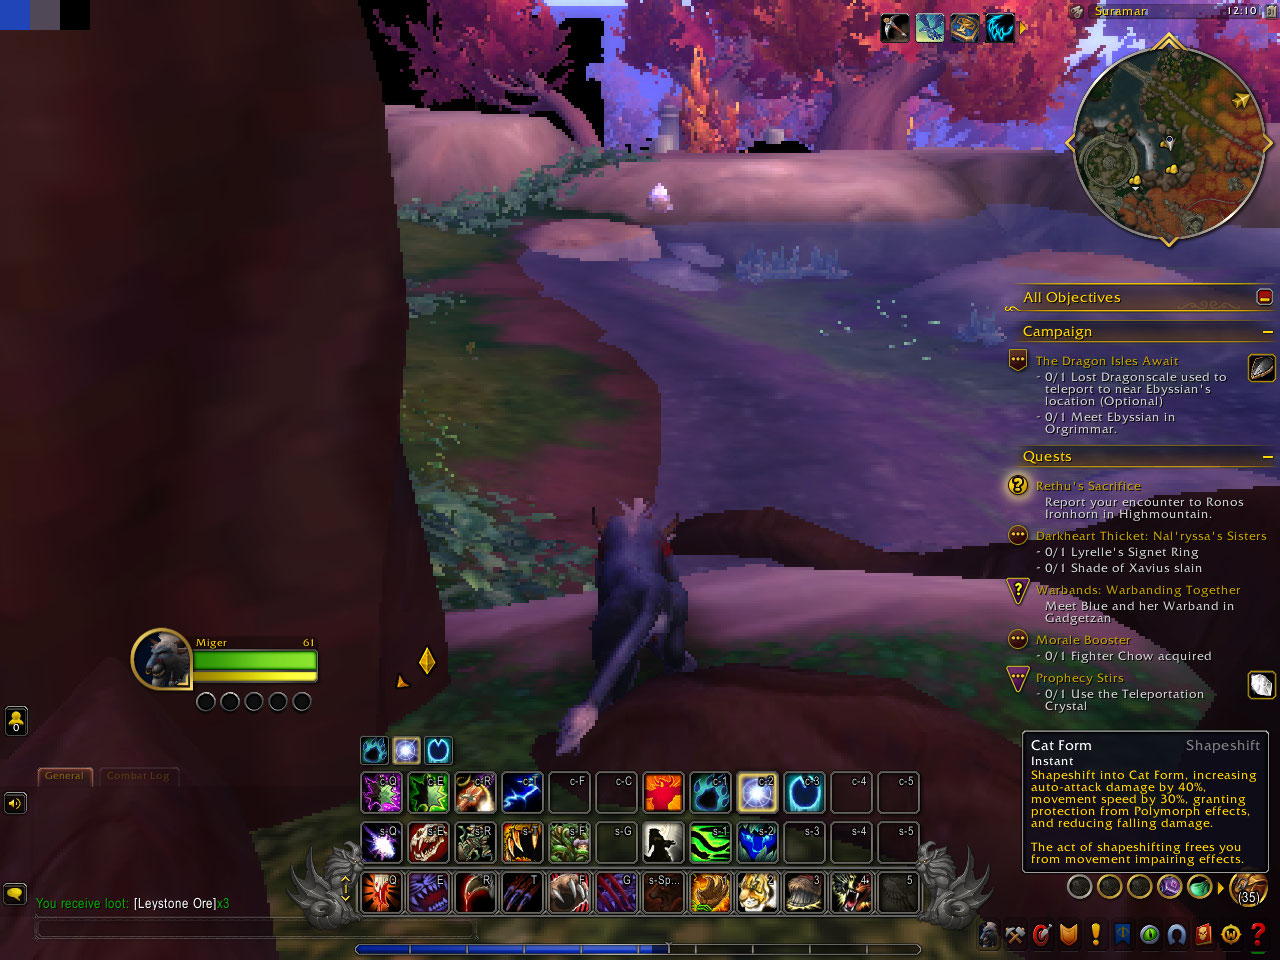ore: (642, 182, 678, 212)
